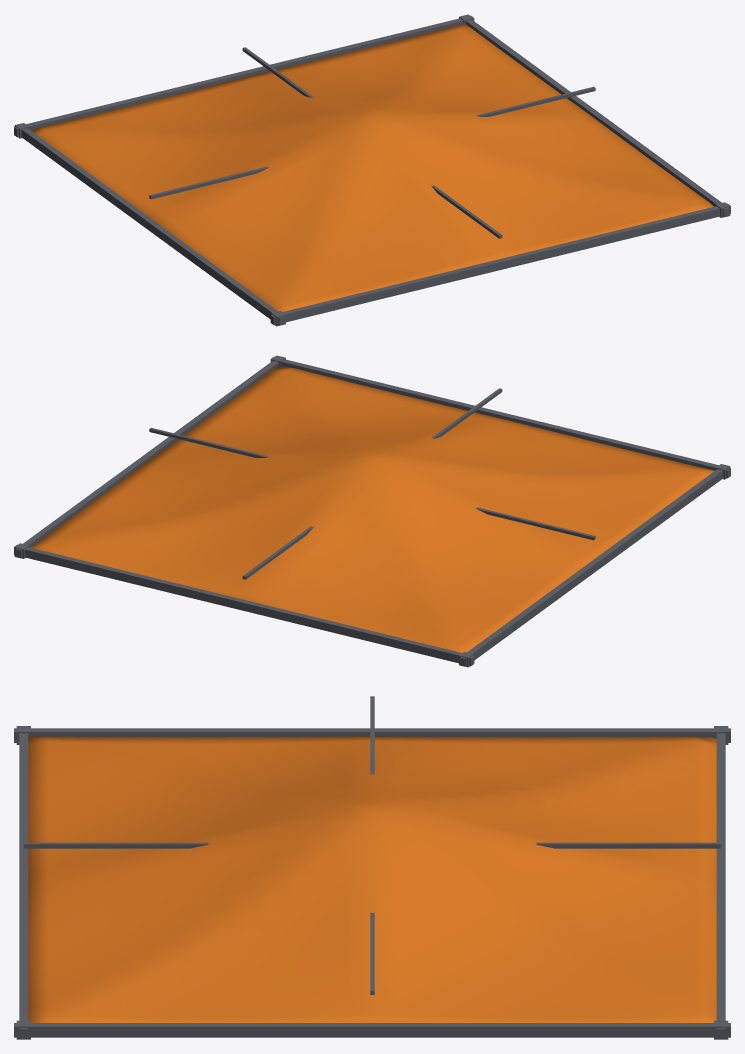
File: canopy.glb
The picture shows the model from 3 angles, top to bottom: view 1: azimuth 30°, elevation 25°; view 2: azimuth 150°, elevation 25°; view 3: azimuth 270°, elevation 25°; orthographic projection. The views are drawn at different scales.
Visible parts, largest first — view 1: canopy; view 2: canopy; view 3: canopy.
Part boxes in pixels (x1,y1,x2,y2): canopy: [14, 14, 730, 326]; canopy: [14, 355, 730, 667]; canopy: [14, 696, 730, 1039].
Size of the model in its own units: 10.9 by 1.36 by 10.9.
